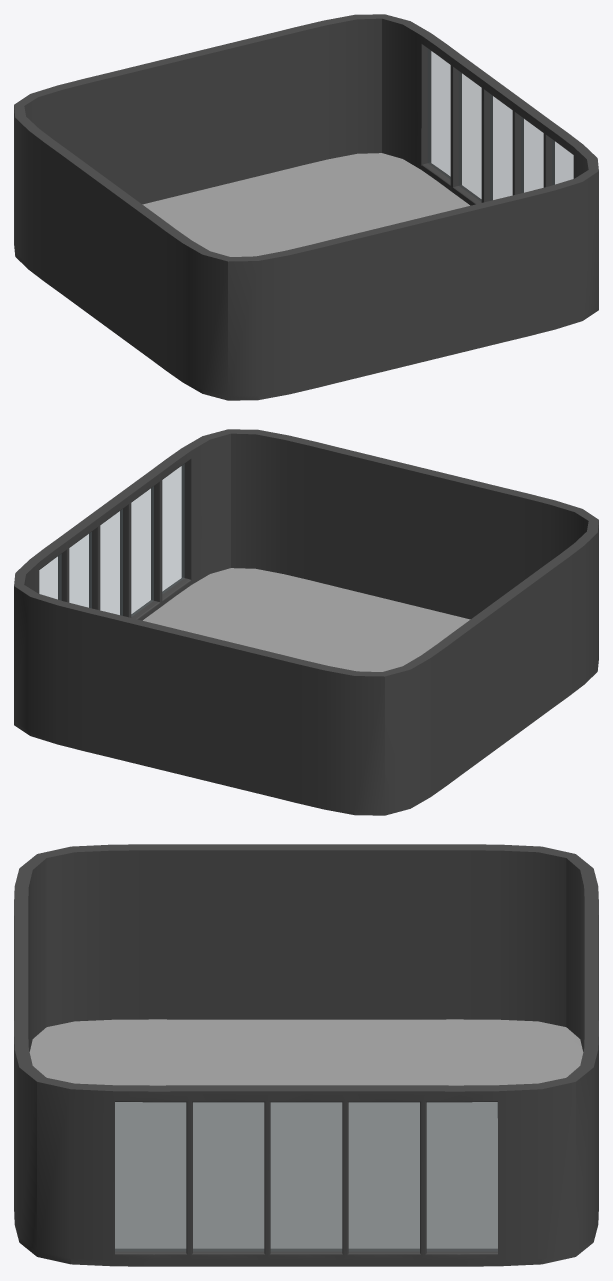
File: NewRoom.fbx
3 views of the same model, one above another, from view 1: azimuth 30°, elevation 25°; view 2: azimuth 150°, elevation 25°; view 3: azimuth 270°, elevation 25° (orthographic). The views are drawn at different scales.
Parts seen in each view (by area): view 1: Room; view 2: Room; view 3: Room.
Boxes of the visible parts, x1,y1,x2,y2 form: Room: [14, 14, 598, 400]; Room: [14, 429, 598, 815]; Room: [14, 844, 598, 1266].
Bounding box in the file's own units: 45.08 × 14.89 × 45.08.
